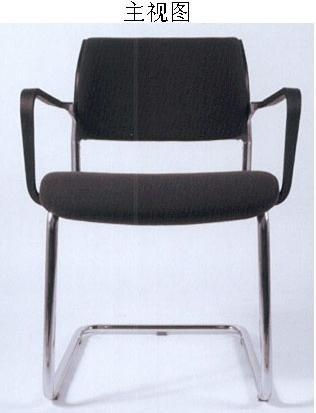obstacle: (20, 37, 300, 399)
